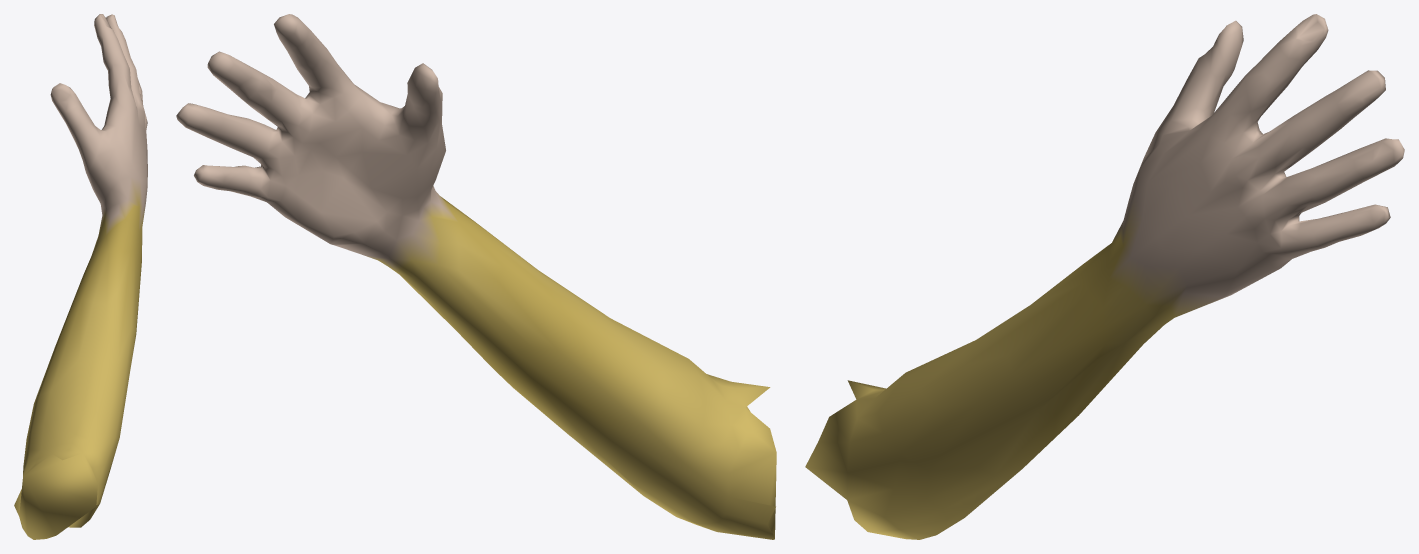
The model's file is teibi_right_lower_arm_authored.glb.
The picture shows the model from 3 angles, left to right: view 1: azimuth 30°, elevation 25°; view 2: azimuth 150°, elevation 25°; view 3: azimuth 270°, elevation 25°; orthographic projection. The views are drawn at different scales.
Parts seen in each view (by area): view 1: piece_rightarm_lowerarm_mesh; view 2: piece_rightarm_lowerarm_mesh; view 3: piece_rightarm_lowerarm_mesh.
Part boxes in pixels (x1,y1,x2,y2): piece_rightarm_lowerarm_mesh: [14, 14, 147, 539]; piece_rightarm_lowerarm_mesh: [176, 14, 776, 539]; piece_rightarm_lowerarm_mesh: [805, 14, 1404, 539].
Bounding box in the file's own units: 0.2633 × 0.3907 × 0.3221.
